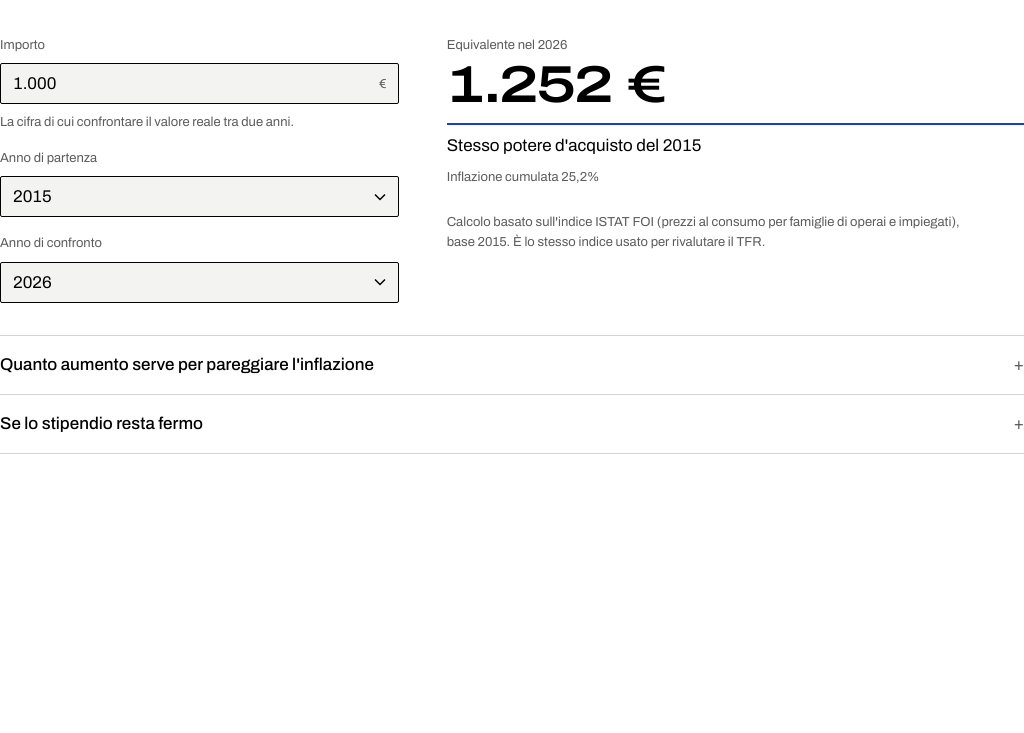
Test: InflationPage › walks a frozen salary year by year without going past the series
Click the heading "Se lo stipendio resta fermo".
click(102, 423)  # box [0, 414, 203, 433]
(page scrolled)
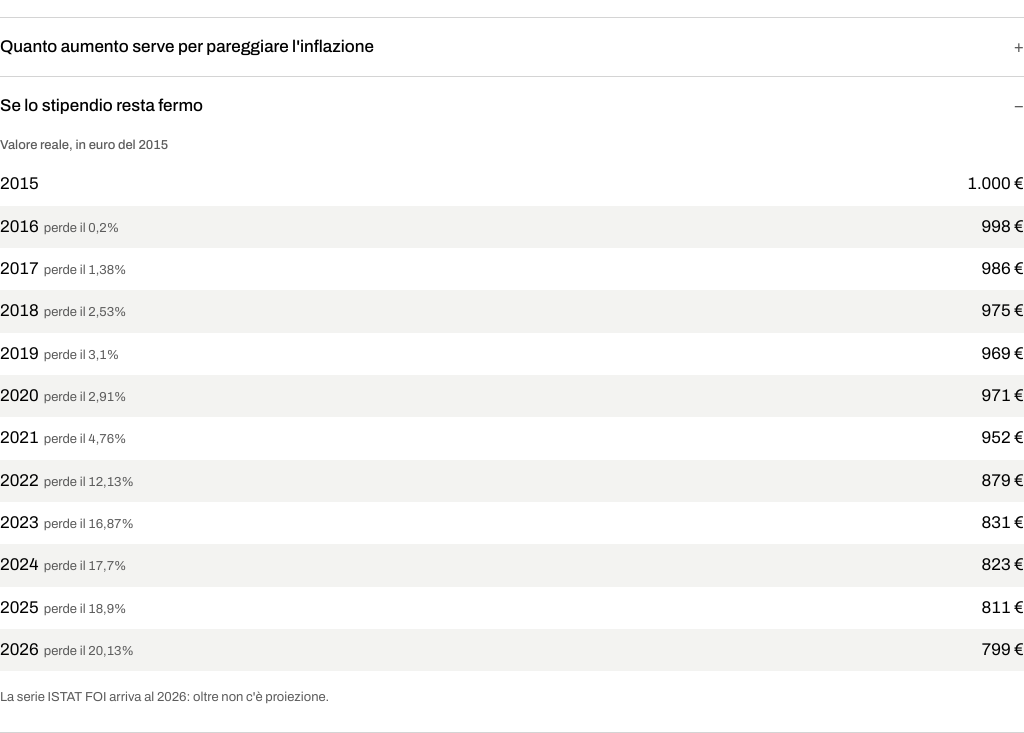
expect the number of rows is 12: met
expect the row "2015 1.000 €" is shown: met, box [0, 163, 1023, 206]
expect the row "2026perde il 20,13% 799 €" is shown: met, box [0, 629, 1023, 671]
